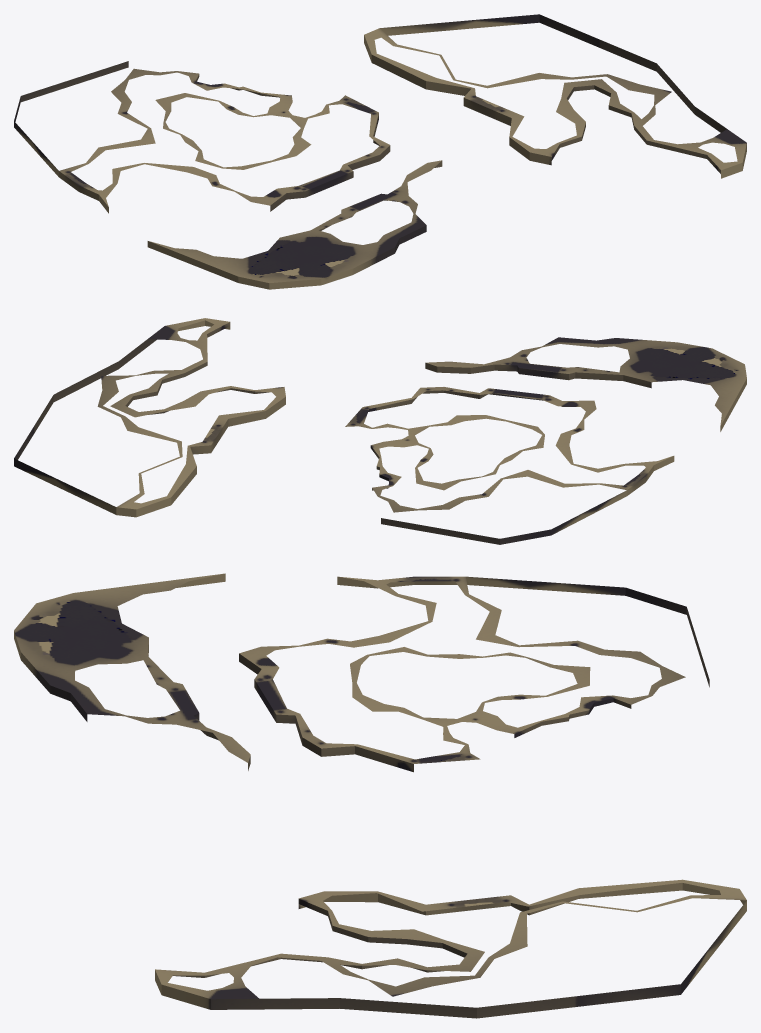
The model's file is Ground_01.FBX.
The picture shows the model from 3 angles, top to bottom: view 1: azimuth 30°, elevation 25°; view 2: azimuth 150°, elevation 25°; view 3: azimuth 270°, elevation 25°; orthographic projection. The views are drawn at different scales.
Visible parts, largest first — view 1: Ground_01; view 2: Ground_01; view 3: Ground_01.
Part boxes in pixels (left/top/right/bottom): Ground_01: left=14, top=14, right=746, bottom=289; Ground_01: left=14, top=318, right=746, bottom=544; Ground_01: left=14, top=573, right=746, bottom=1018.
Size of the model in its own units: 39.31 by 3.18 by 32.07.
